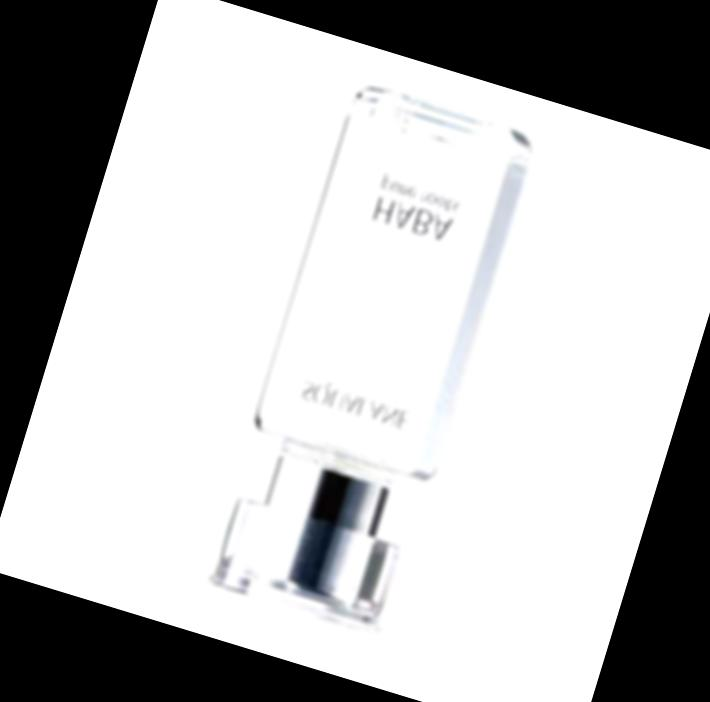cosmetic: (202, 81, 538, 639)
